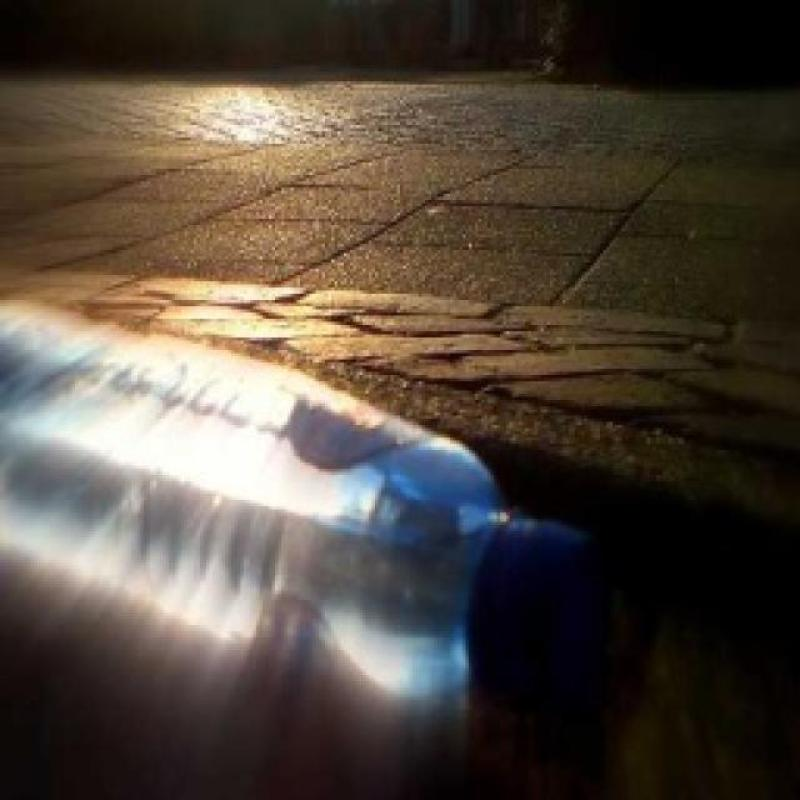botella: (0, 297, 598, 797)
